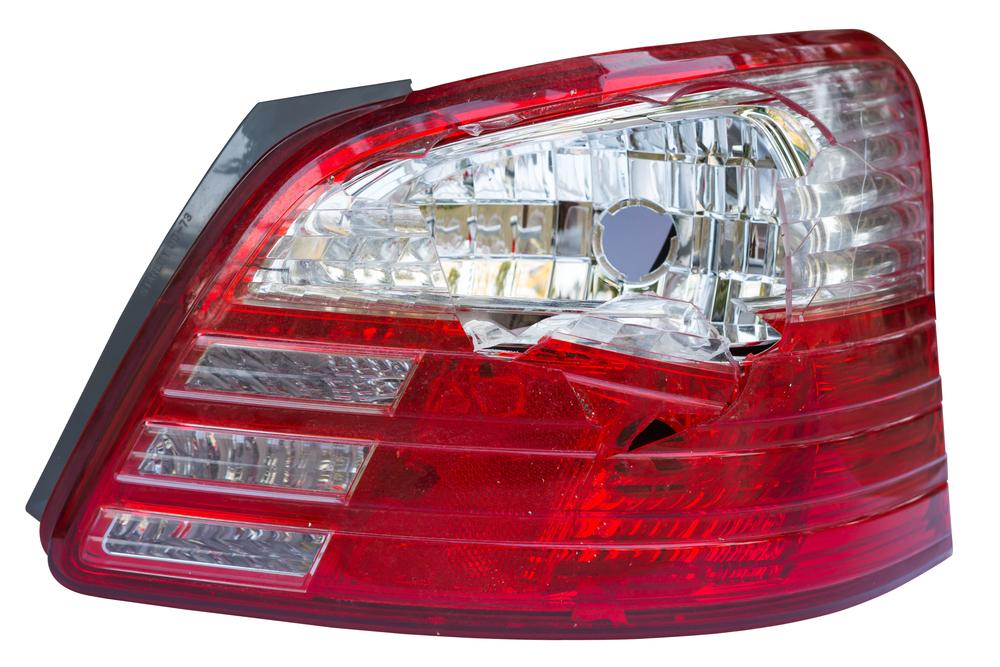lamp broken: (41, 29, 953, 639)
